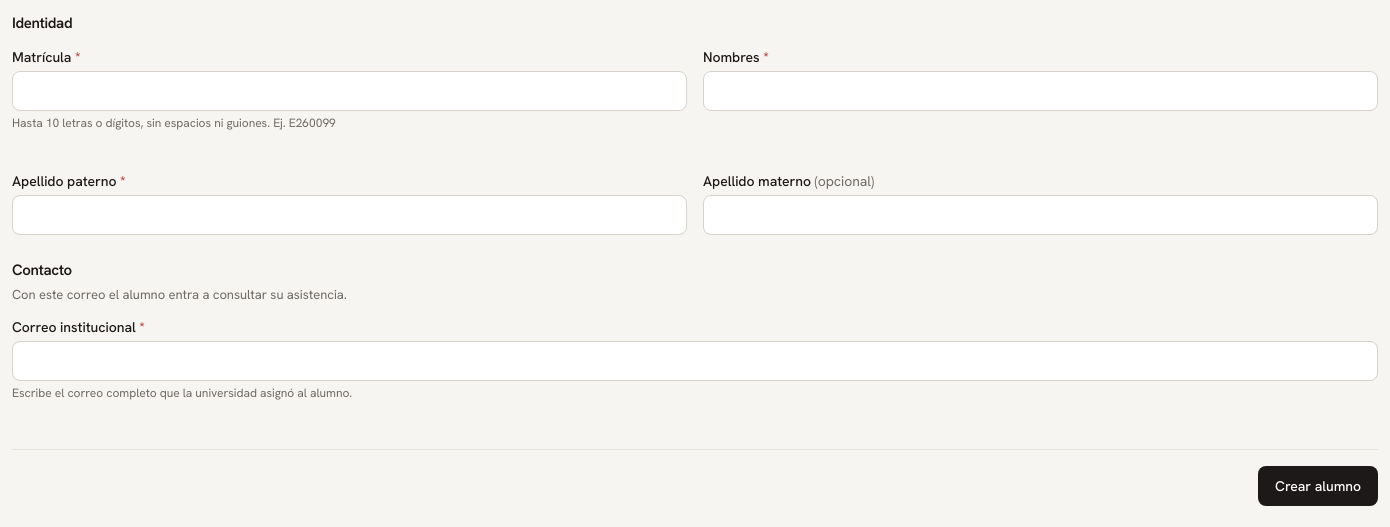
Test case: AlumnoForm (alta simple) › valida al salir del campo, no mientras se escribe
In the field labelled "Correo institucional *": [695, 360] box [12, 340, 1378, 380], type "ana"
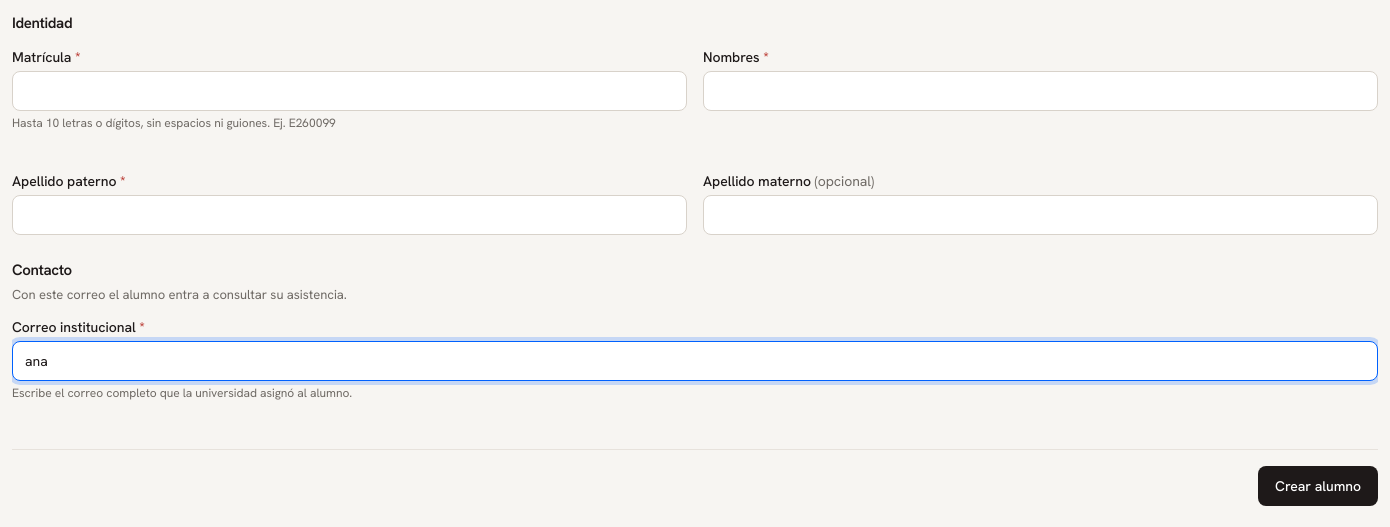
Check: the text "correo válido" is not shown
Press Tab
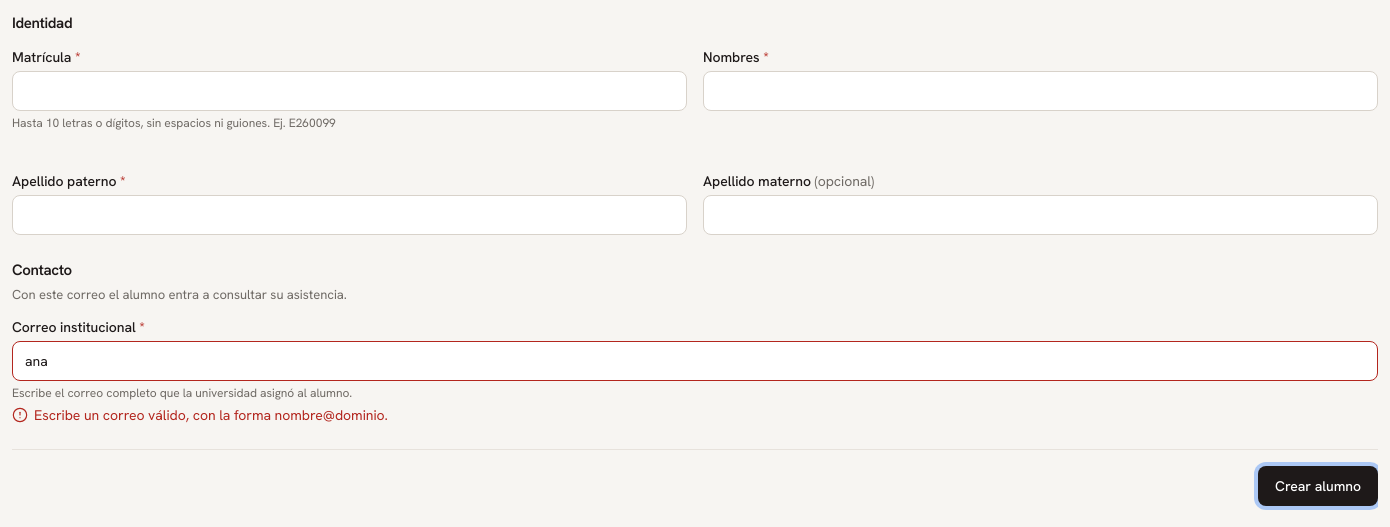
Check: the text "Escribe un correo válido, con la forma nombre@dominio." is shown, box [12, 406, 388, 424]
In the field labelled "Correo institucional *": [695, 360] box [12, 340, 1378, 380], type "@dominio.mx"
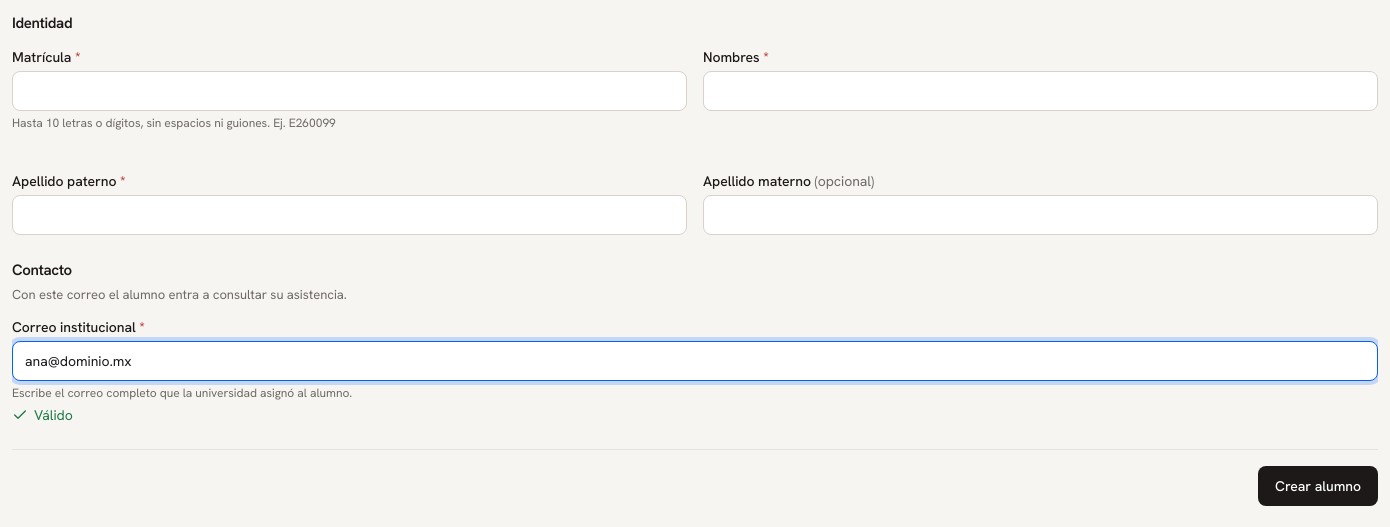
Check: the text "Escribe un correo válido" is gone
